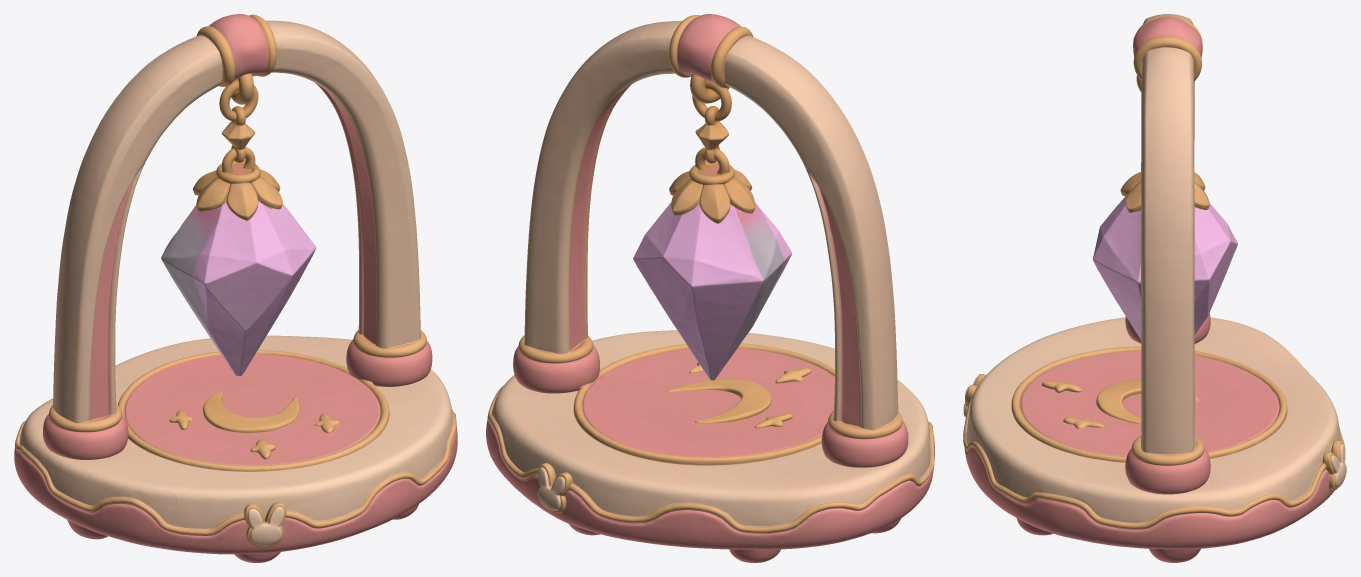
File: Pendulum.fbx
3 renders of one model, left to right at view 1: azimuth 30°, elevation 25°; view 2: azimuth 150°, elevation 25°; view 3: azimuth 270°, elevation 25°, orthographic. The views are drawn at different scales.
Parts seen in each view (by area): view 1: pink crystal pendant 3d model; view 2: pink crystal pendant 3d model; view 3: pink crystal pendant 3d model.
Boxes of the visible parts, x1,y1,x2,y2 form: pink crystal pendant 3d model: (14,14,457,562); pink crystal pendant 3d model: (486,14,934,562); pink crystal pendant 3d model: (963,14,1346,562).
Bounding box in the file's own units: 0.8784 × 1 × 0.7507.
Materials: 1 (1 with a texture image).
